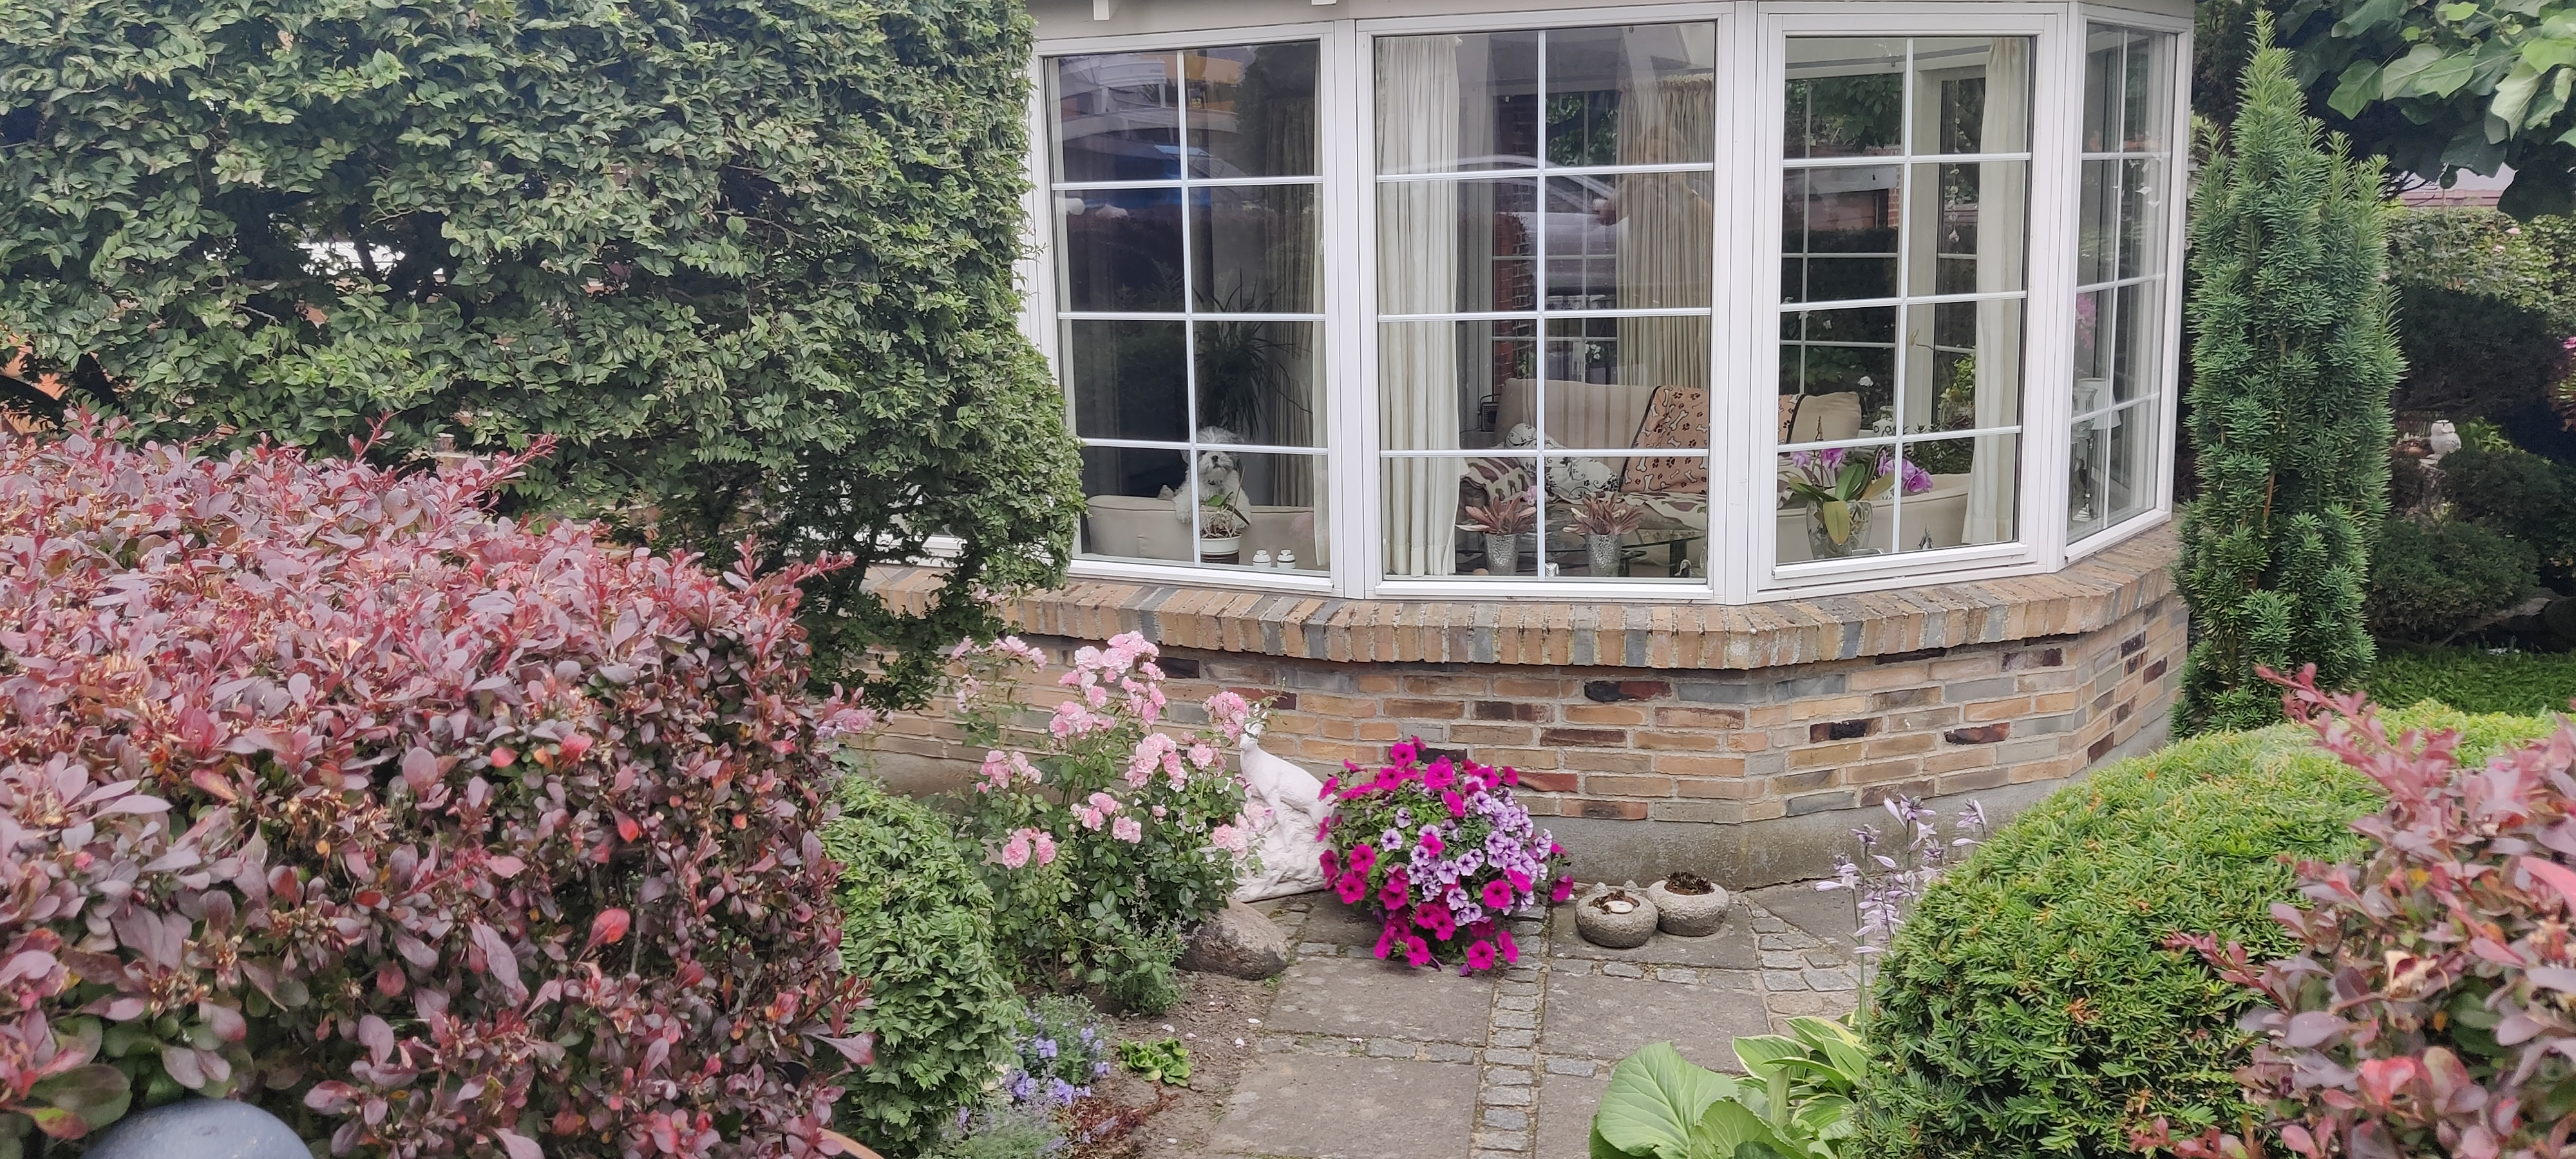Dog: (1157, 422, 1260, 529)
